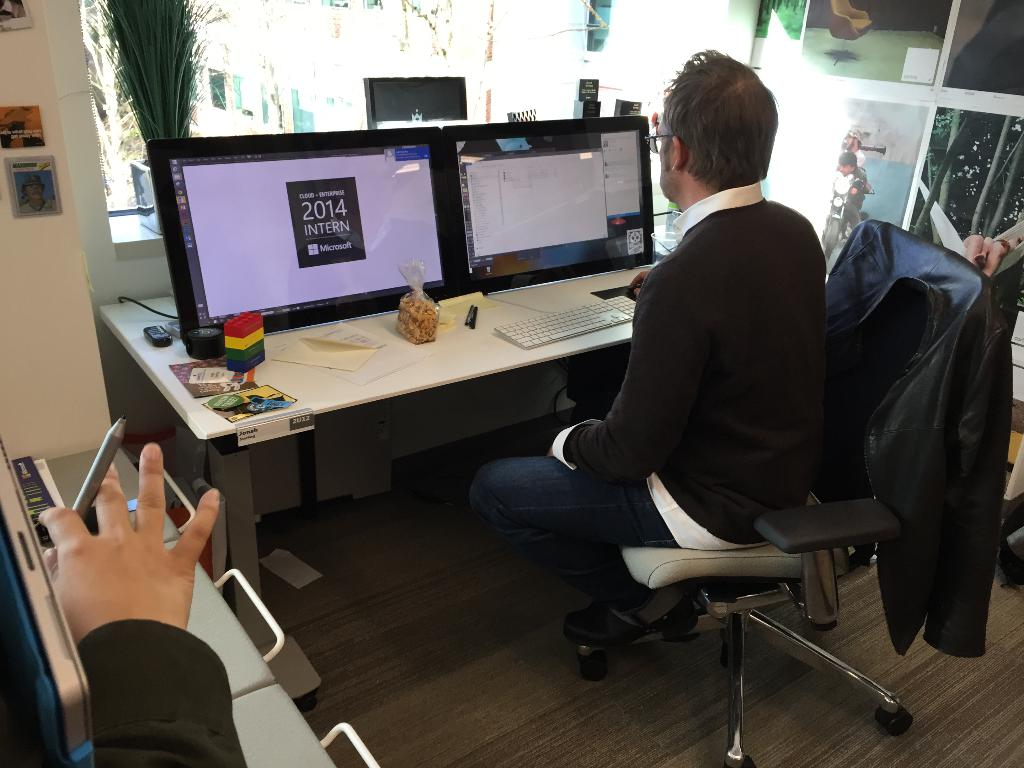Chair: (553, 218, 999, 767)
